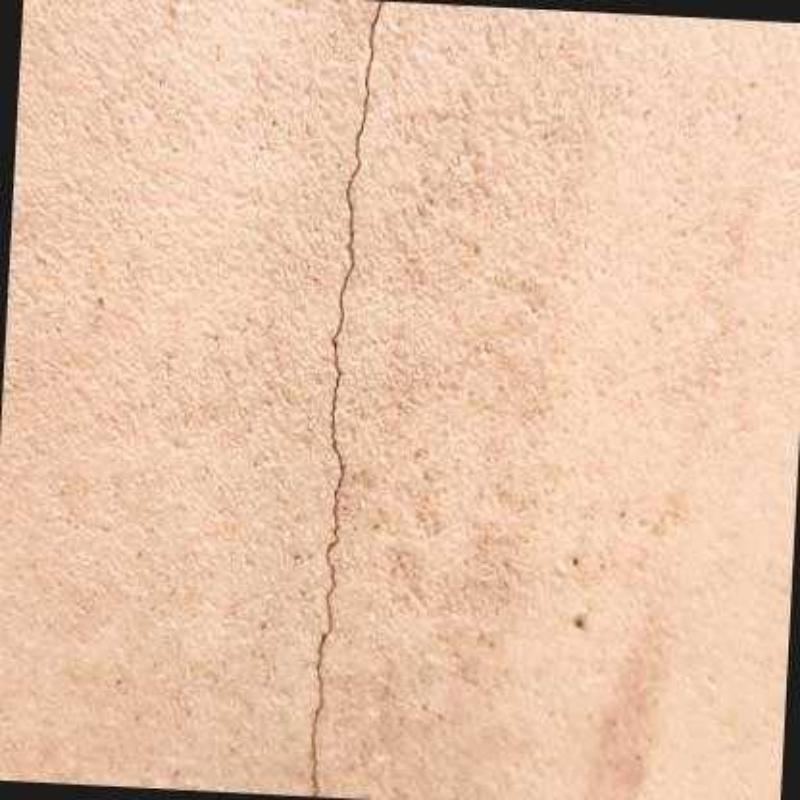pothole: (310, 2, 384, 798)
